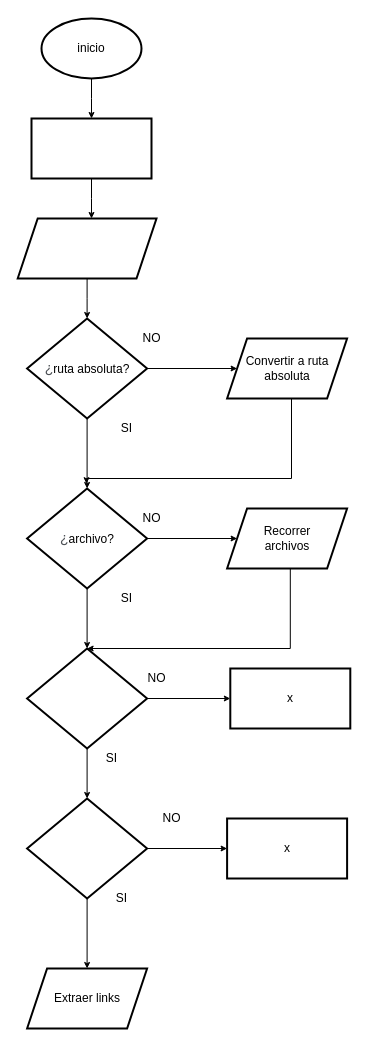
The diagram is 369 pixels wide and 1046 high, and some of its shapes have lost their labels. The box of each missing label's shape, as (x1, y1, x2, y2) in pixels:
API: (30, 117, 152, 179)
Recibir argumentos: (16, 217, 157, 279)
¿ archivo.md?: (26, 647, 148, 749)
¿ existen links?: (26, 797, 148, 899)
